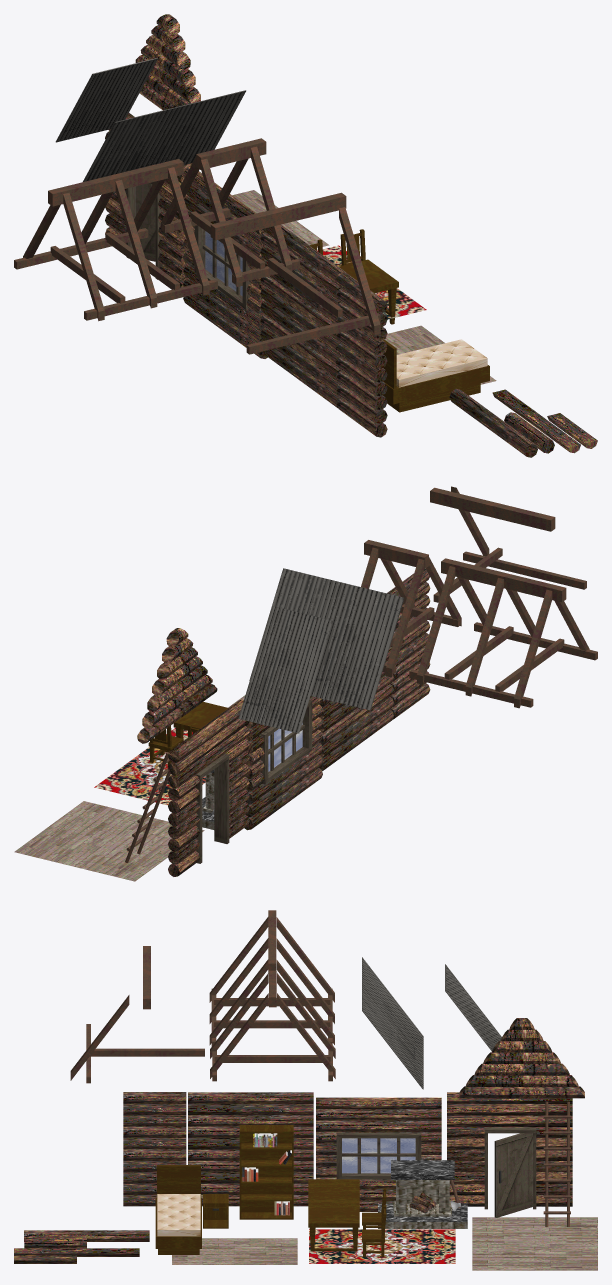
Rendered from PSX Stlye Modular Cabin.fbx.
The picture shows the model from 3 angles, top to bottom: view 1: azimuth 30°, elevation 25°; view 2: azimuth 150°, elevation 25°; view 3: azimuth 270°, elevation 25°; orthographic projection. The views are drawn at different scales.
Visible parts, largest first — view 1: RoofFrame, Wall, Roof, Wall_Half, RoofFrameHalf, Bed, Window_Wall, Roof_Half, Upper_Wall, Door_Wall, RoofFrameTop, Window (+13 smaller); view 2: Roof, RoofFrame, Door_Wall, Roof_Half, Floor, Upper_Wall, Window_Wall, RoofFrameHalf, Wall, Wall_Half, Rug, Window (+7 smaller); view 3: Wall, Door_Wall, Window_Wall, Floor, Wall_Half, Upper_Wall, RoofFrame, Rug, BookShelf, FirePlace, Bed, RoofFrameHalf (+17 smaller).
Boxes of the visible parts, box(x1,y1,x2,y2) form: RoofFrame: box(14, 159, 217, 321); Wall: box(260, 225, 346, 407); Roof: box(83, 90, 246, 181); Wall_Half: box(336, 273, 387, 437); RoofFrameHalf: box(160, 138, 299, 287); Bed: box(383, 339, 489, 412); Window_Wall: box(183, 167, 267, 358); Roof_Half: box(55, 58, 157, 142); Upper_Wall: box(135, 14, 200, 110); Door_Wall: box(105, 113, 192, 287); RoofFrameTop: box(210, 192, 346, 240); Window: box(194, 225, 250, 309); Roof: box(249, 568, 404, 710); RoofFrame: box(409, 558, 597, 708); Door_Wall: box(168, 699, 249, 876); Roof_Half: box(238, 606, 332, 733); Floor: box(14, 801, 204, 881); Upper_Wall: box(137, 628, 217, 743); Window_Wall: box(244, 696, 322, 830); RoofFrameHalf: box(361, 540, 461, 677); Wall: box(319, 647, 394, 771); Wall_Half: box(387, 569, 430, 719); Rug: box(94, 728, 205, 805); Window: box(260, 700, 312, 784); Wall: box(188, 1092, 313, 1206); Door_Wall: box(447, 1092, 572, 1206); Window_Wall: box(316, 1097, 441, 1211); Floor: box(472, 1217, 597, 1270); Wall_Half: box(123, 1092, 186, 1206); Upper_Wall: box(459, 1018, 584, 1098); RoofFrame: box(209, 910, 334, 1046); Rug: box(309, 1229, 455, 1263); BookShelf: box(239, 1125, 293, 1219); FirePlace: box(378, 1160, 467, 1228); Bed: box(155, 1165, 201, 1254); RoofFrameHalf: box(210, 970, 335, 1081).
Bounding box in the file's own units: 915 × 551 × 1394.
16 materials, 16 textured.
